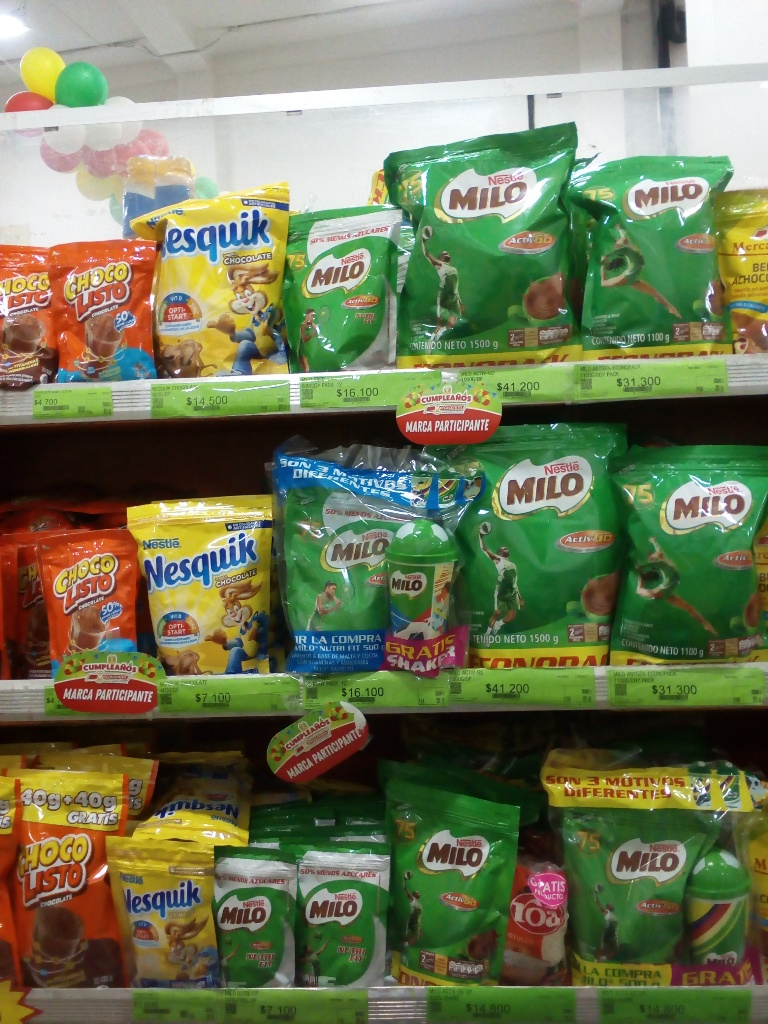COL0170103DYP20000: (0, 245, 53, 374)
COL0170104DYP20000: (45, 236, 162, 383)
COL0170203DYP50000: (383, 780, 522, 987)
COL0170205DYP20000: (288, 843, 393, 989)
COL0170205DYP50000: (283, 203, 408, 380)
COL0170306DYP20000: (103, 836, 223, 986)
